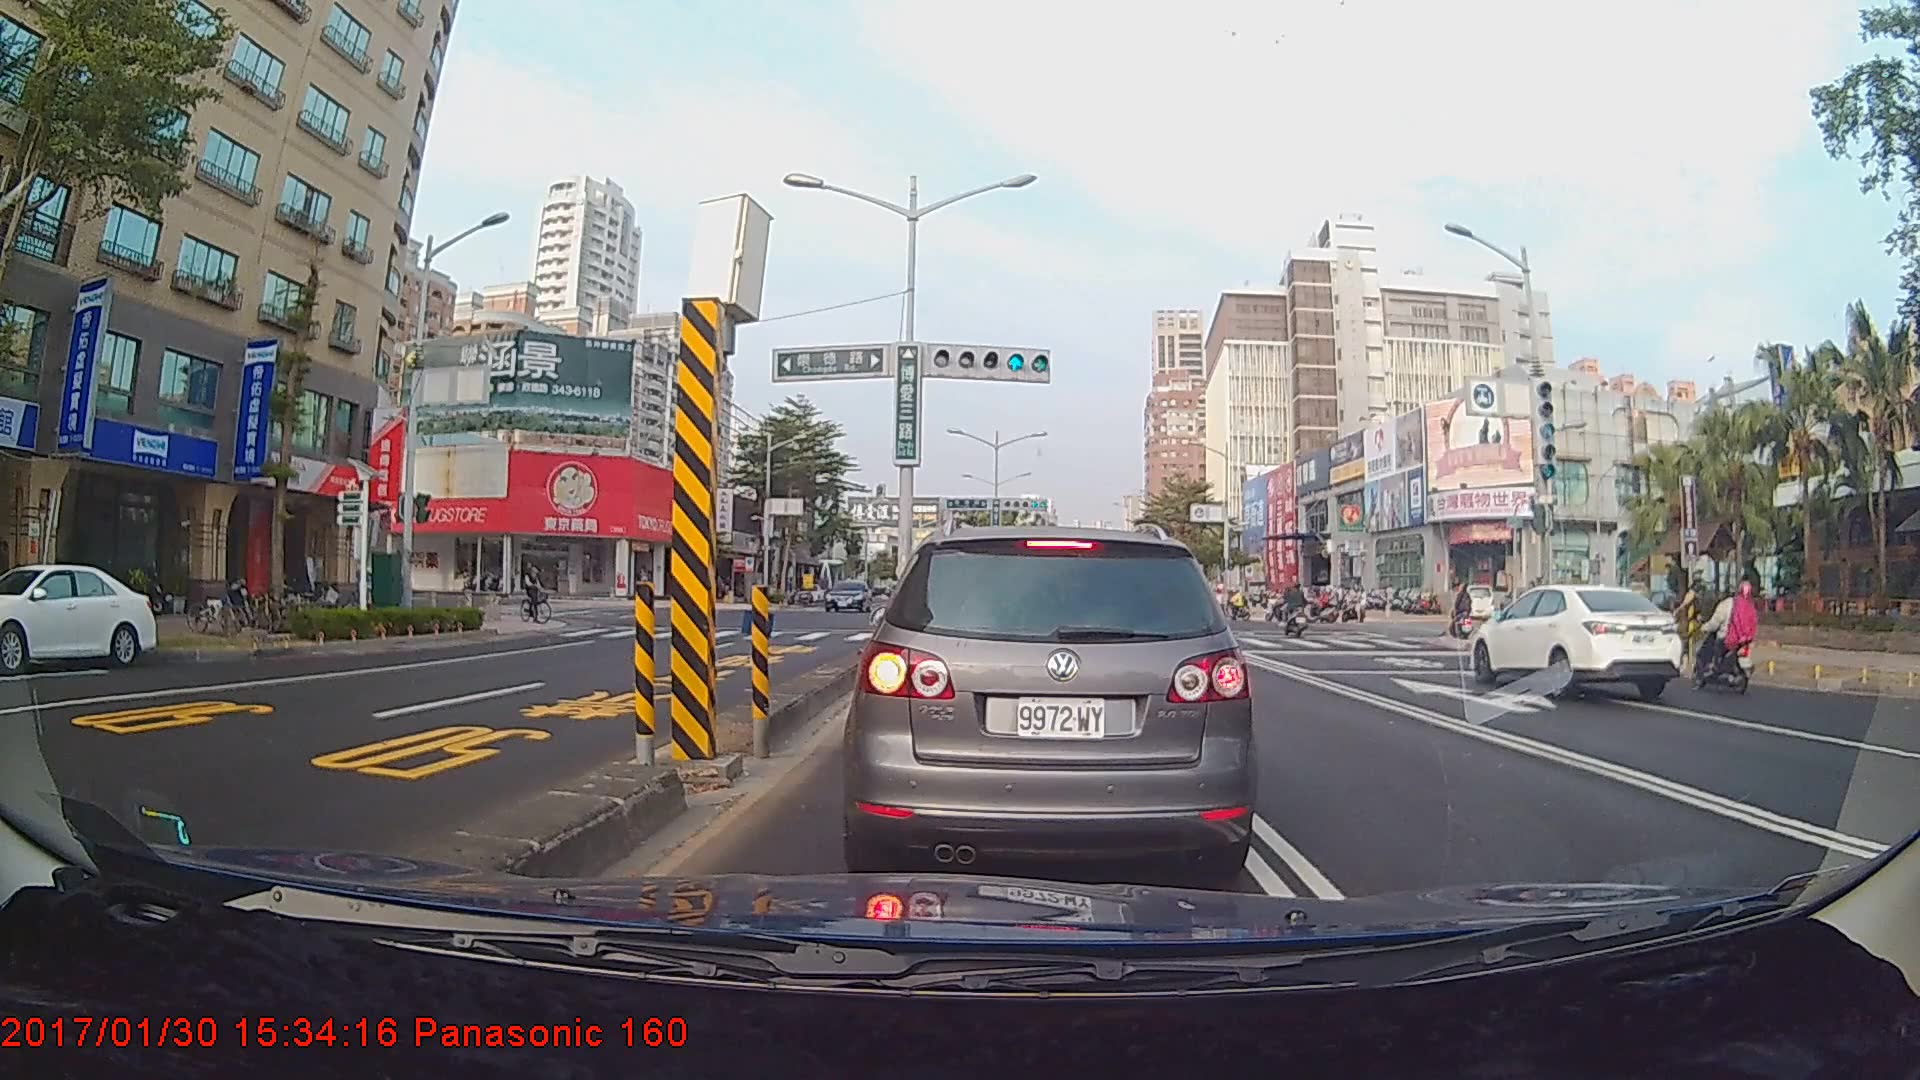rider: (1682, 576, 1757, 694), (518, 559, 561, 629), (1273, 580, 1317, 642), (1450, 582, 1480, 646)
vehicle: (852, 520, 1248, 885), (1471, 581, 1690, 701), (0, 561, 158, 671), (824, 578, 873, 614)
